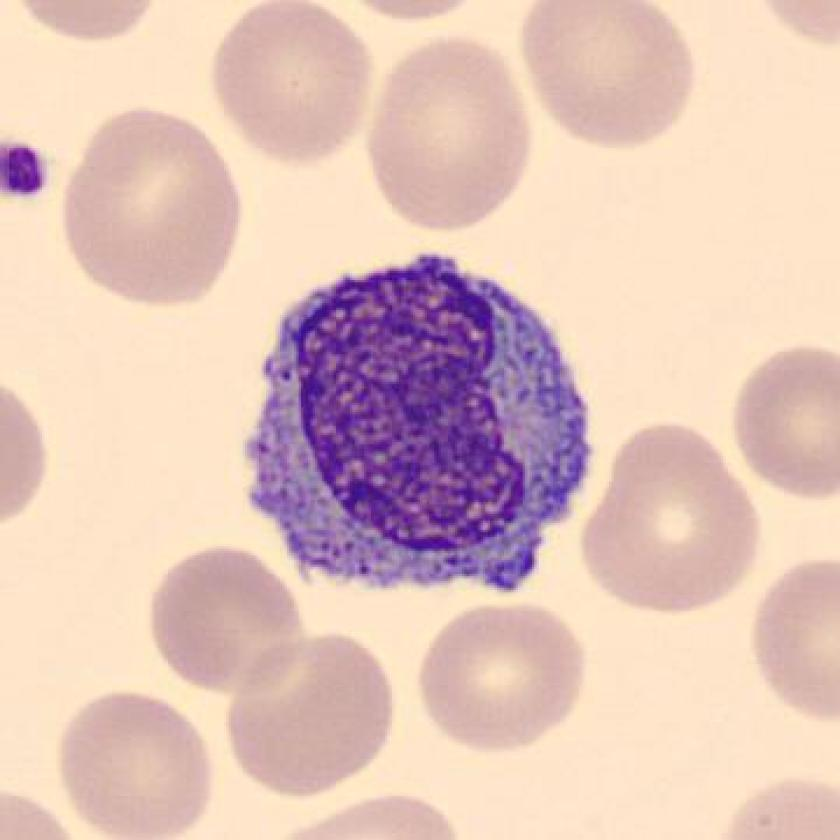monocyte: (223, 230, 617, 617)
